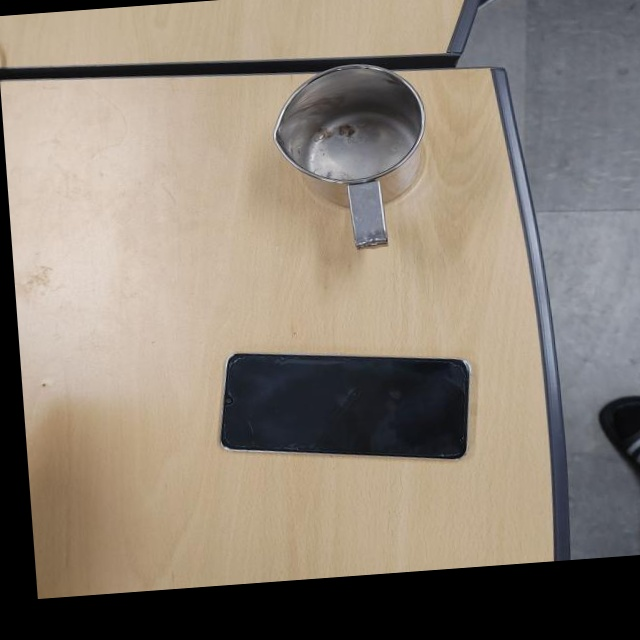cup: (269, 58, 436, 257)
phone: (213, 334, 478, 481)
